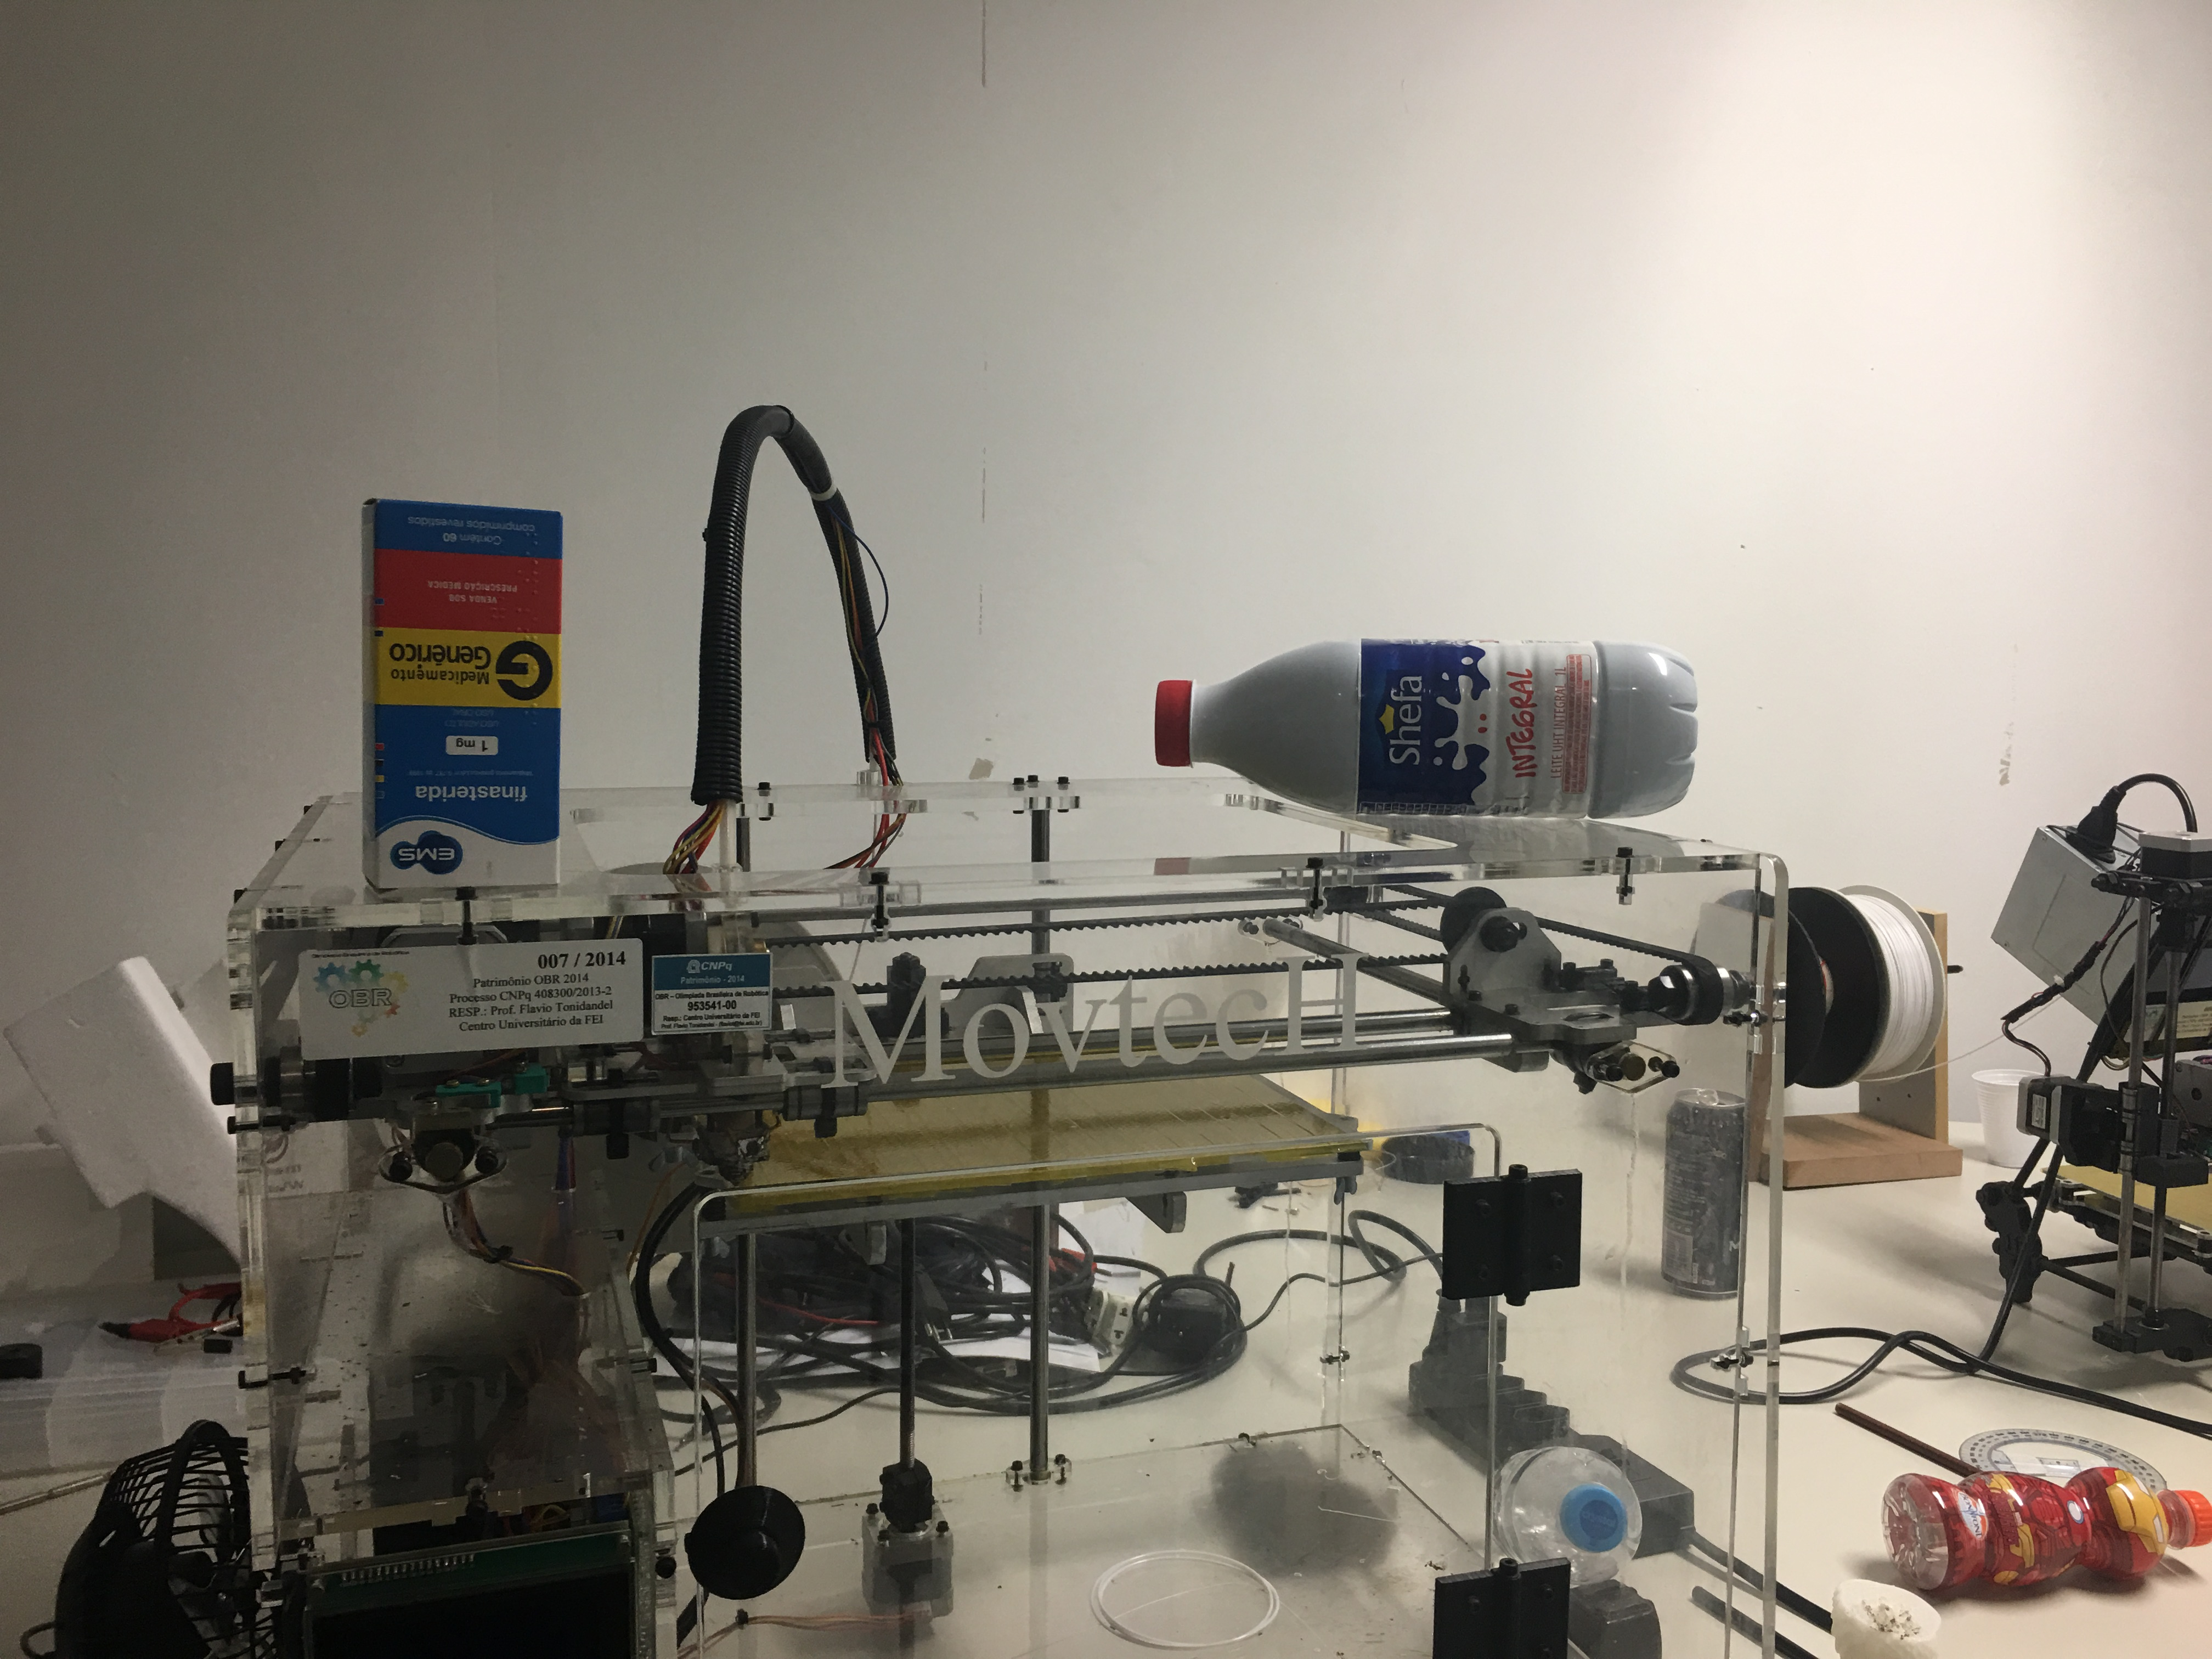iron_man: (1878, 1465, 2212, 1596)
medicine: (352, 487, 575, 910)
milk_bottle: (1143, 629, 1714, 833)
